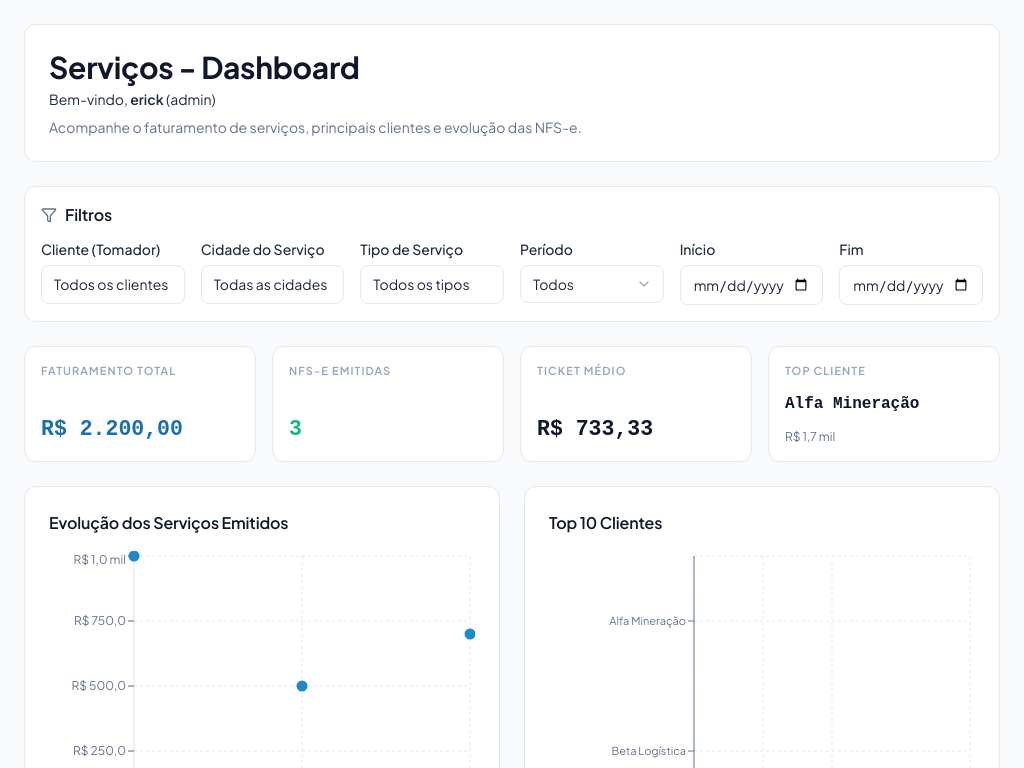
KPIs de Serviços › o filtro Tipo de Serviço chega ao recorte e muda os KPIs
Click the button "Todos os tipos": (432, 284) [360,265,504,304]
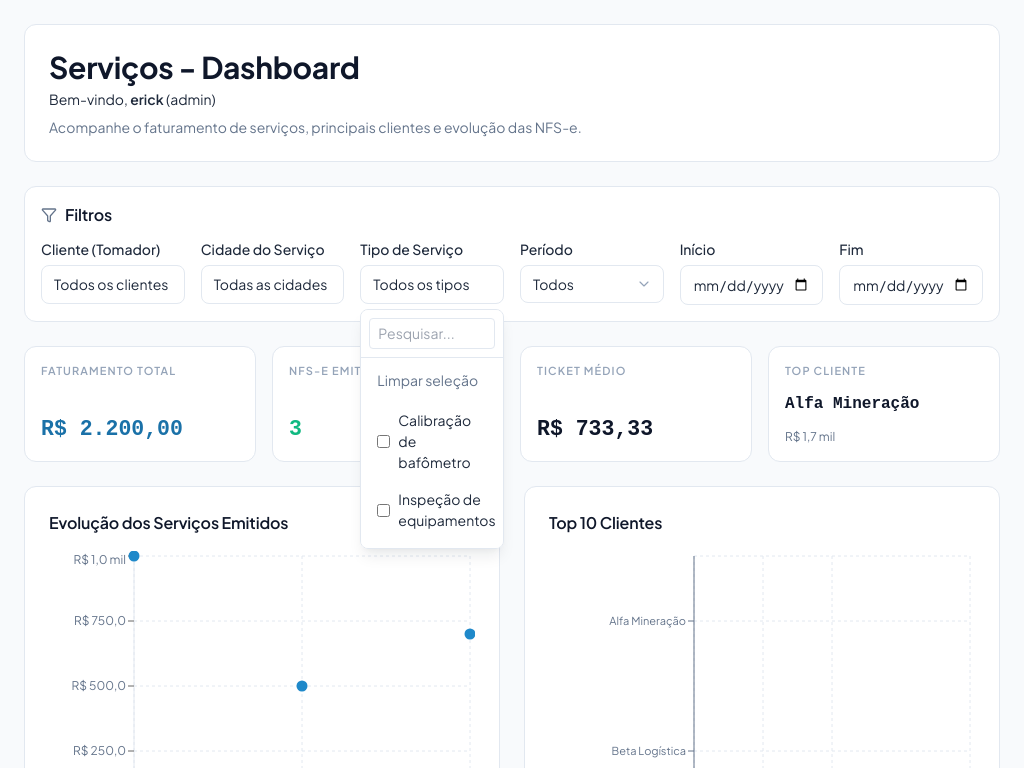
Click the checkbox labelled "Inspeção de equipamentos": (384, 510) [377,504,390,516]
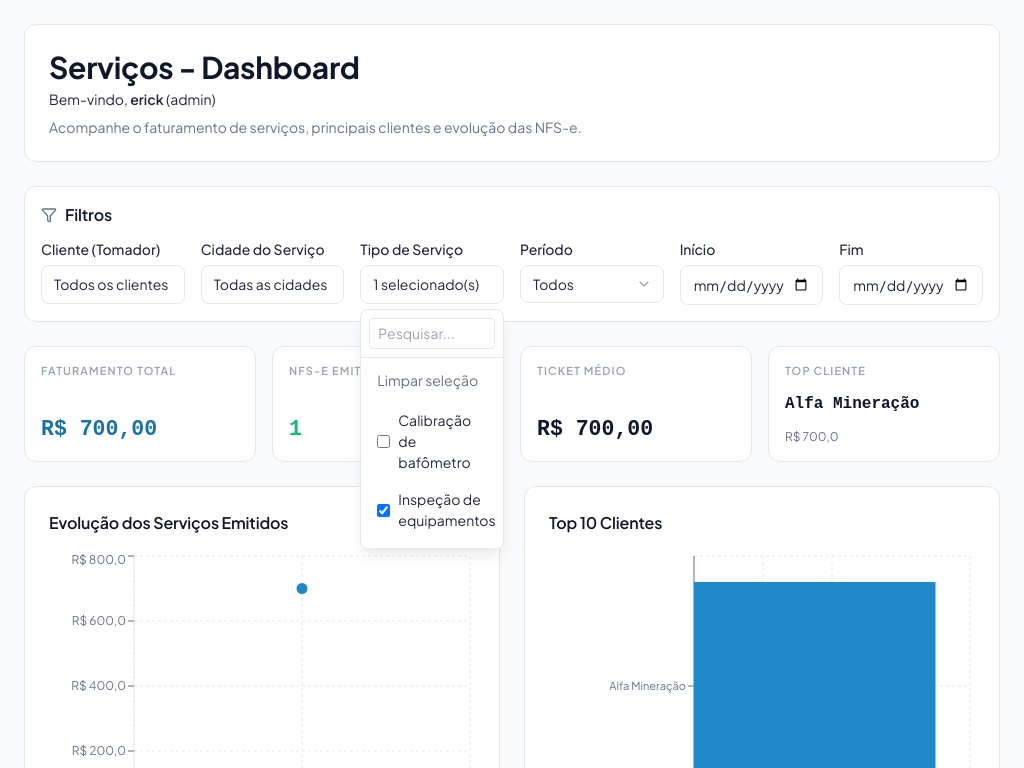
Expected: the text "1" is shown, [289,417,302,441]
Result: the text "R$ 700,00" below "Faturamento Total" is shown at [41,417,157,441]
